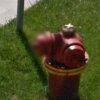Hydrant: (28, 16, 93, 98)
